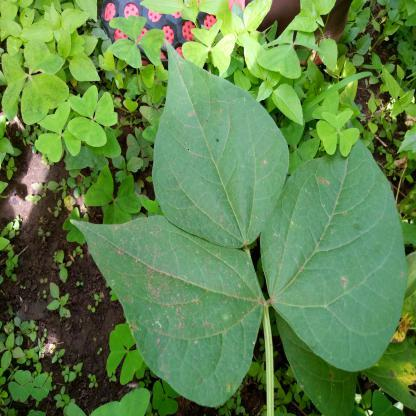Beans_Angular_LeafSpot: (90, 202, 257, 392), (264, 153, 407, 366), (157, 52, 280, 242)
